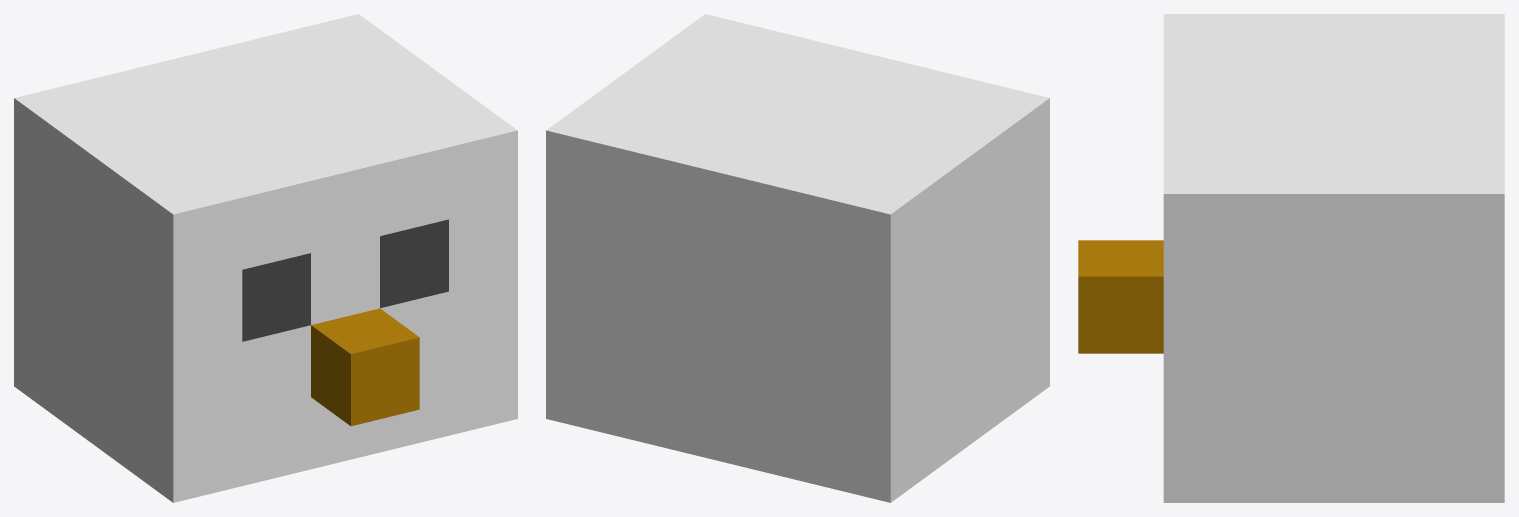
The model's file is Chicken_Head1.fbx.
The picture shows the model from 3 angles, left to right: view 1: azimuth 30°, elevation 25°; view 2: azimuth 150°, elevation 25°; view 3: azimuth 270°, elevation 25°; orthographic projection. The views are drawn at different scales.
Visible parts, largest first — view 1: Chicken_Head1; view 2: Chicken_Head1; view 3: Chicken_Head1.
Boxes of the visible parts, x1,y1,x2,y2 form: Chicken_Head1: (14, 14, 517, 502); Chicken_Head1: (546, 14, 1049, 502); Chicken_Head1: (1078, 14, 1504, 502).
Size of the model in its own units: 50 by 40 by 50.
